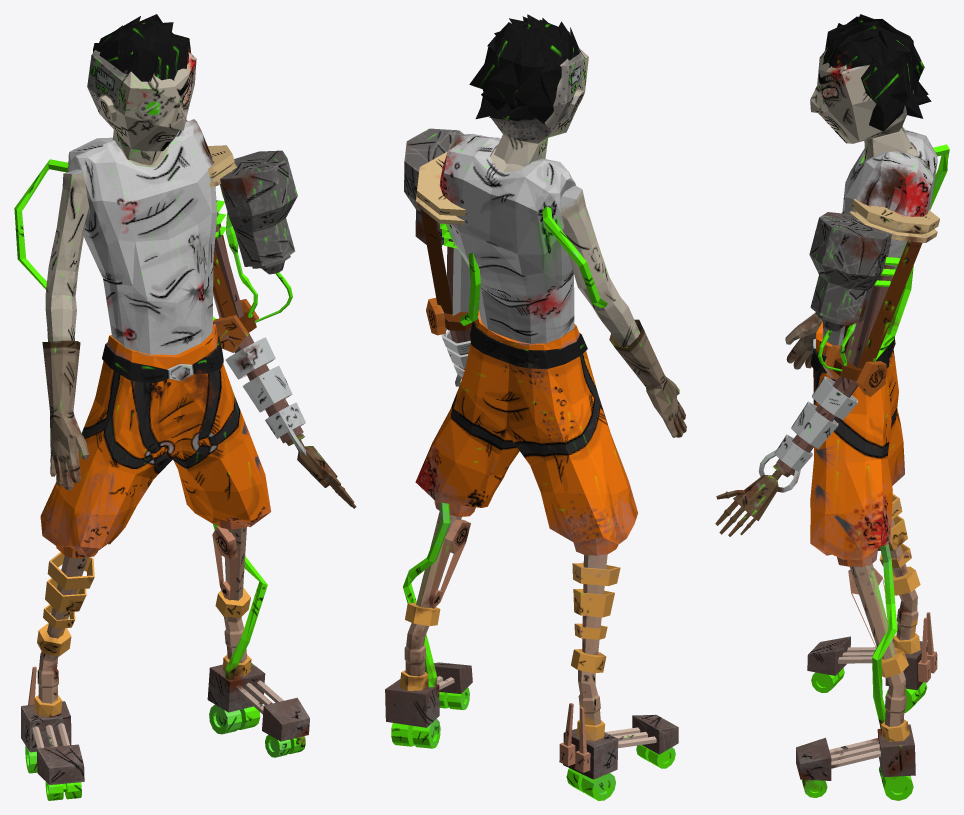
File: CyborgFINALAnimation_000002.obj
3 renders of one model, left to right at view 1: azimuth 30°, elevation 25°; view 2: azimuth 150°, elevation 25°; view 3: azimuth 270°, elevation 25°, orthographic. The views are drawn at different scales.
Visible parts, largest first — view 1: CyborgMesh_Cube.002; view 2: CyborgMesh_Cube.002; view 3: CyborgMesh_Cube.002.
Boxes of the visible parts, box(x1,y1,x2,y2) form: CyborgMesh_Cube.002: box(14, 14, 356, 800); CyborgMesh_Cube.002: box(385, 14, 686, 800); CyborgMesh_Cube.002: box(715, 14, 949, 800).
Bounding box in the file's own units: 3.5 × 9.63 × 2.83.
